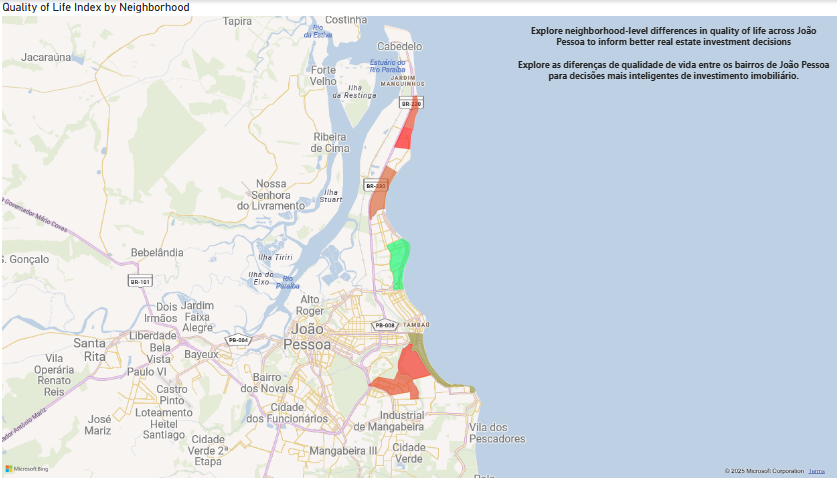

The page's visual inventory and layout, read from the dashboard file:
{"tool":"powerbi","page":{"name":"Page 1","canvas":[1280,720],"ordinal":0},"visuals":[{"type":"filledMap","title":"Quality of Life Index by Neighborhood","fields":{"Category":["quality_of_life_index.Localizacao_Completa"]},"box":[16,0,1264,720],"z":0},{"type":"textbox","box":[784,32,480,112],"z":501}]}

Visuals, with their boxes in screenshot pixels (x1, y1, x2, y2), scaled from the page's 1280x720 canvas onto the 837x478 screenshot:
"Quality of Life Index by Neighborhood" filledMap: 10, 0, 836, 477
textbox: 513, 21, 827, 96
